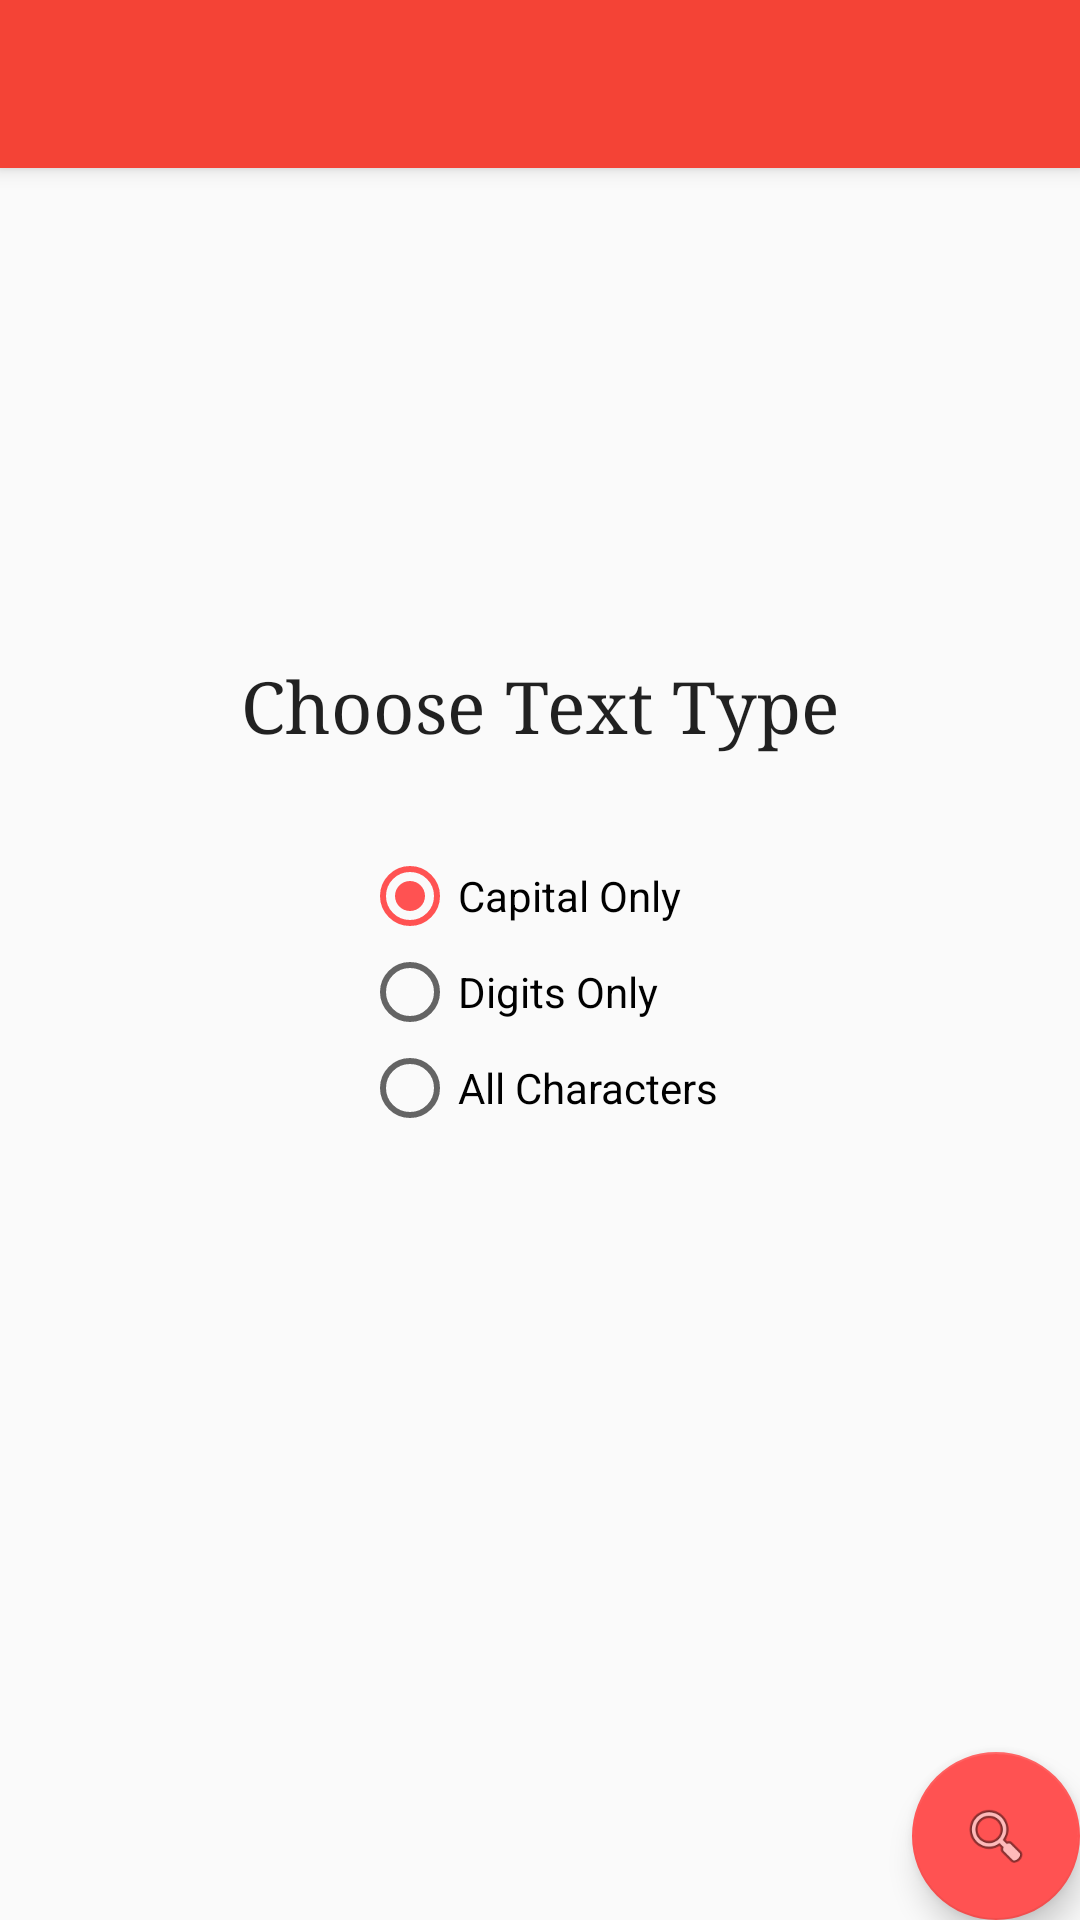

Named icons in this screenshot (1080px x 1920px) and their bounding boxes, (x1, y1, x2, y2):
search: (912, 1752, 1080, 1920)
